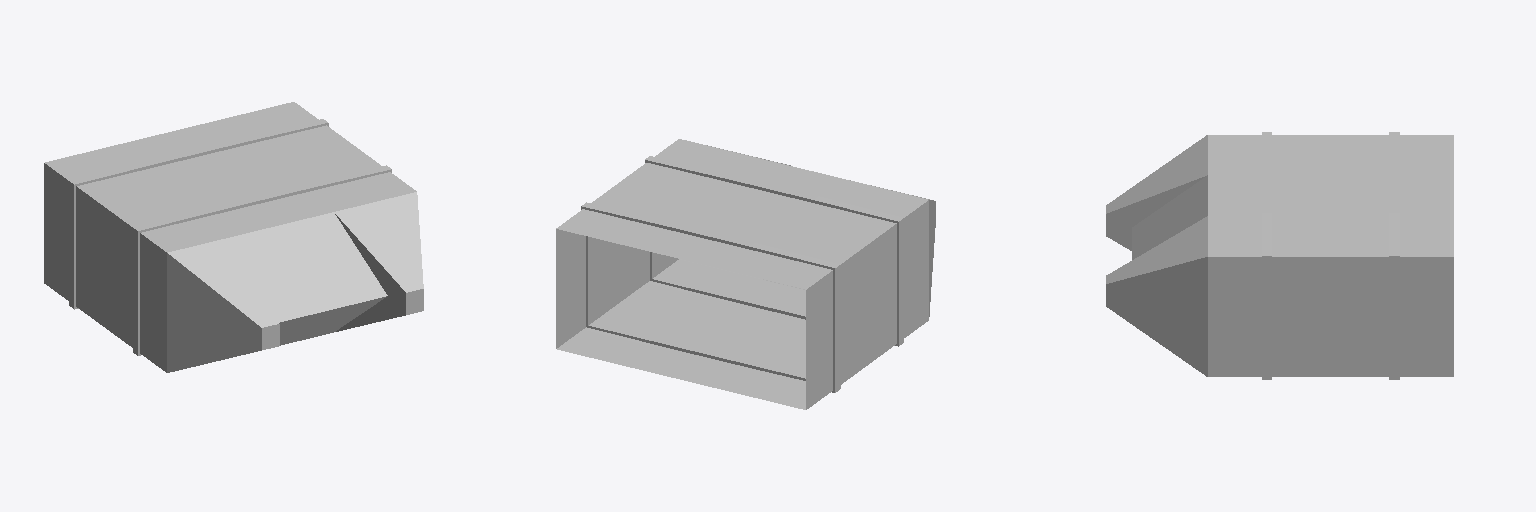
The model's file is tower5.obj.
The picture shows the model from 3 angles: view 1: azimuth 30°, elevation 25°; view 2: azimuth 150°, elevation 25°; view 3: azimuth 270°, elevation 25°; orthographic projection.
Parts seen in each view (by area): view 1: tower5; view 2: tower5; view 3: tower5.
Boxes of the visible parts, x1=… form: tower5: x1=44, y1=102, x2=423, y2=372; tower5: x1=556, y1=139, x2=935, y2=409; tower5: x1=1106, y1=132, x2=1453, y2=379.
Size of the model in its own units: 34.24 by 16.29 by 40.52.